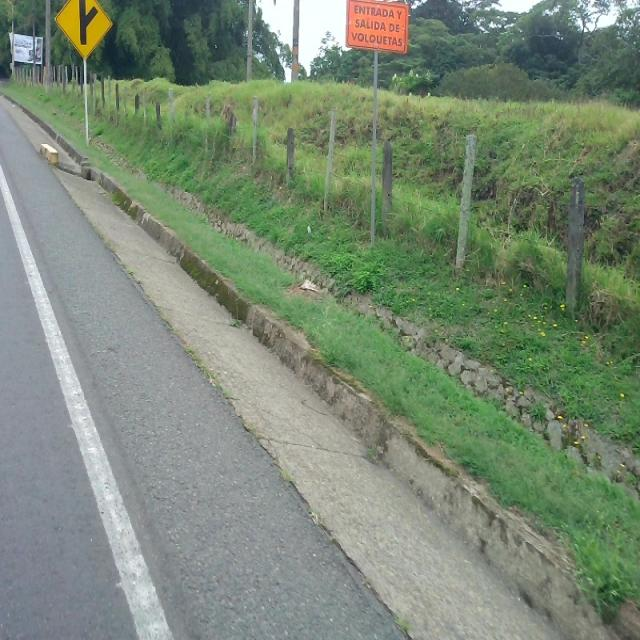DITCH: (3, 90, 637, 639), (1, 176, 638, 638)
